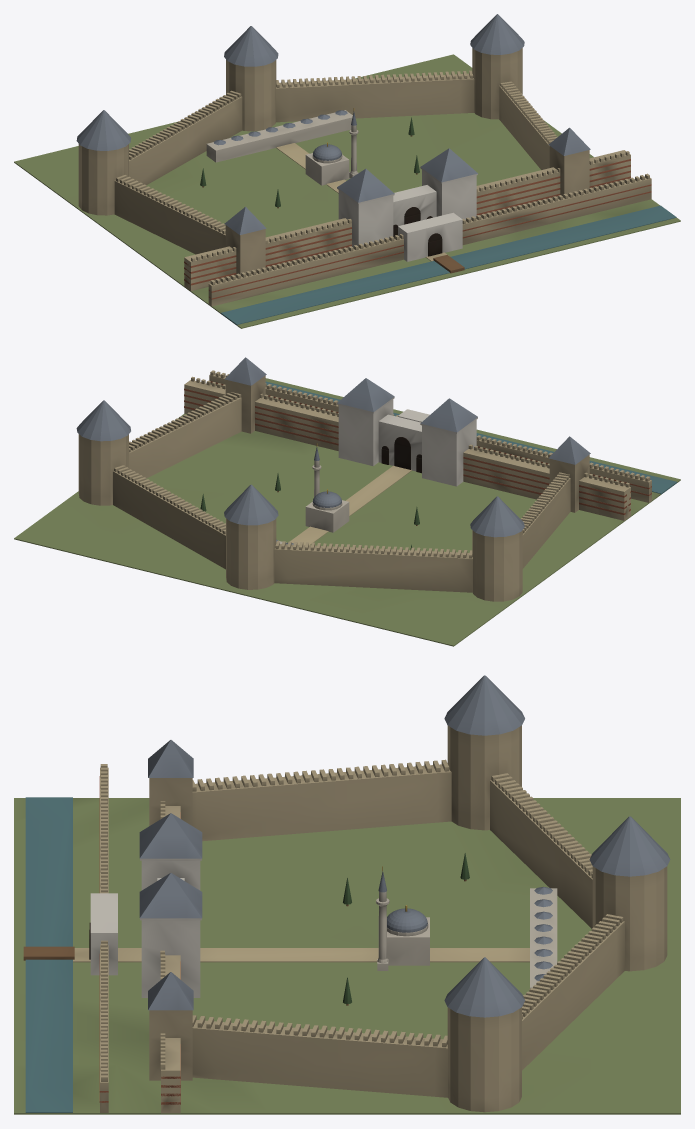
Rendered from yedikule.glb.
3 renders of one model, top to bottom at view 1: azimuth 30°, elevation 25°; view 2: azimuth 150°, elevation 25°; view 3: azimuth 270°, elevation 25°, orthographic. The views are drawn at different scales.
Visible parts, largest first — view 1: p0_walls, p2_fortress, p1_golden gate, p3_mosque; view 2: p0_walls, p2_fortress, p1_golden gate, p3_mosque; view 3: p0_walls, p2_fortress, p1_golden gate, p3_mosque.
Boxes of the visible parts, x1,y1,x2,y2 form: p0_walls: (14,54,680,328); p2_fortress: (76,14,590,254); p1_golden gate: (184,146,630,290); p3_mosque: (200,108,419,208); p0_walls: (14,370,680,646); p2_fortress: (76,357,590,601); p1_golden gate: (184,375,630,520); p3_mosque: (200,443,419,550); p0_walls: (14,764,680,1114); p2_fortress: (139,675,670,1112); p1_golden gate: (89,778,201,1113); p3_mosque: (343,853,557,1005).
Bounding box in the file's own units: 191 × 39.4 × 170.
